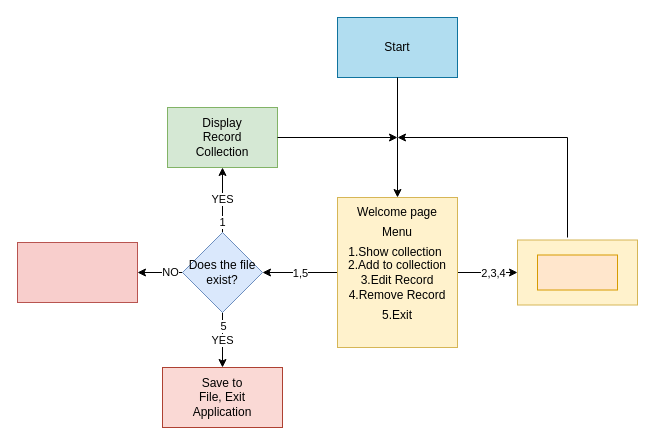
Some shapes in this 655 by 445 pixel diagram are drawn without their labels. Here are the shapes that lost their labels. From the top down, the centre of each, then its label:
the point at 77,272: Show Error
the point at 577,272: Request user input
